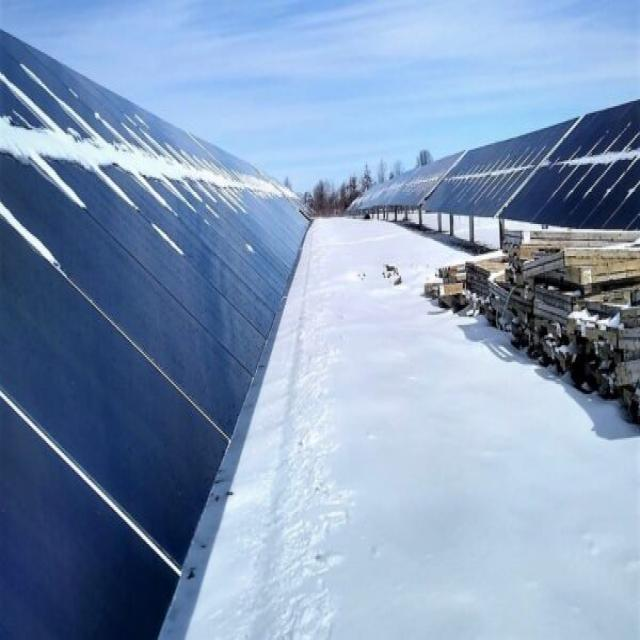snow covered: (3, 34, 314, 351)
